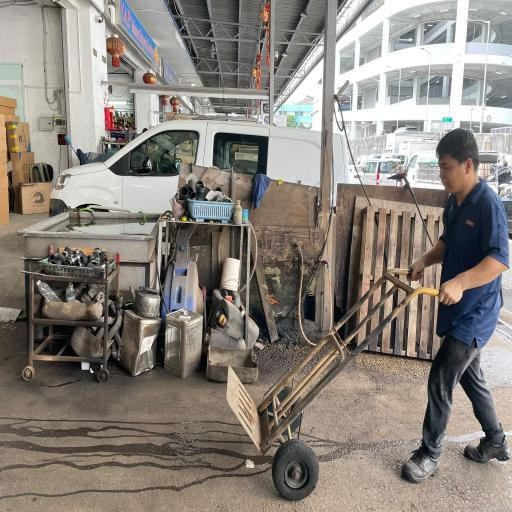person_left: (223, 124, 510, 505)
